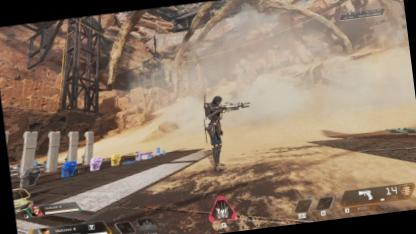Target: (203, 93, 230, 173)
